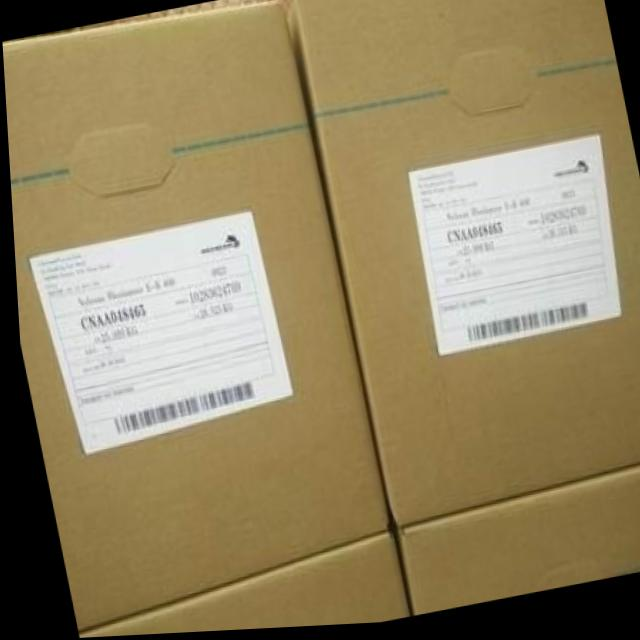box: (2, 0, 382, 633), (288, 0, 640, 534), (391, 472, 640, 620), (71, 535, 400, 638)
